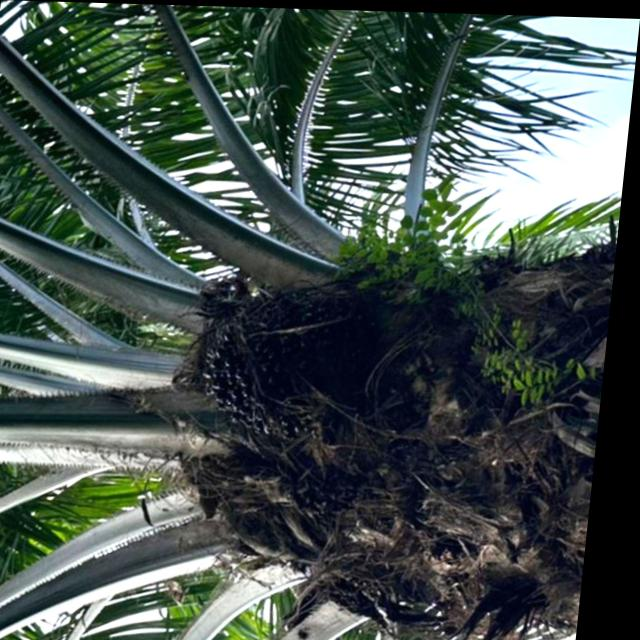almost: (198, 278, 400, 436)
